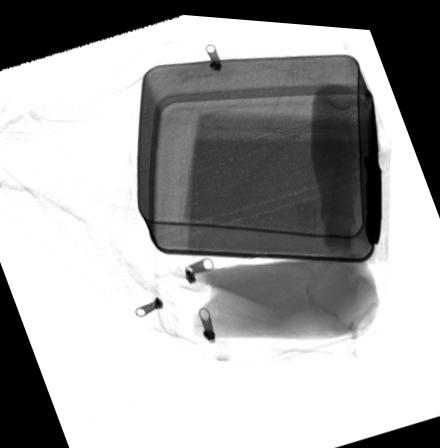Knife: (361, 91, 381, 238)
